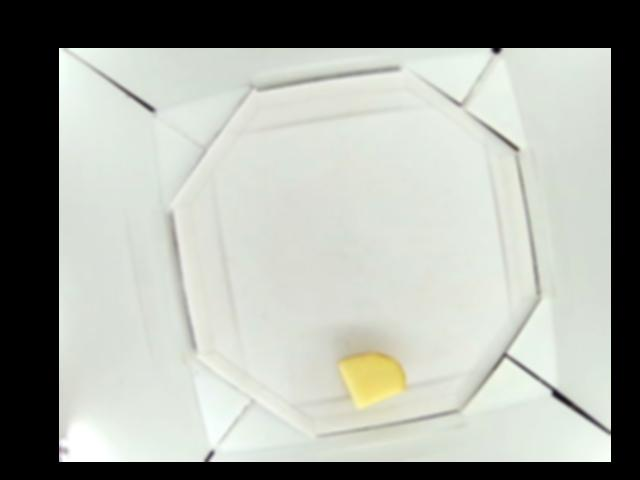Potato: (337, 351, 407, 406)
